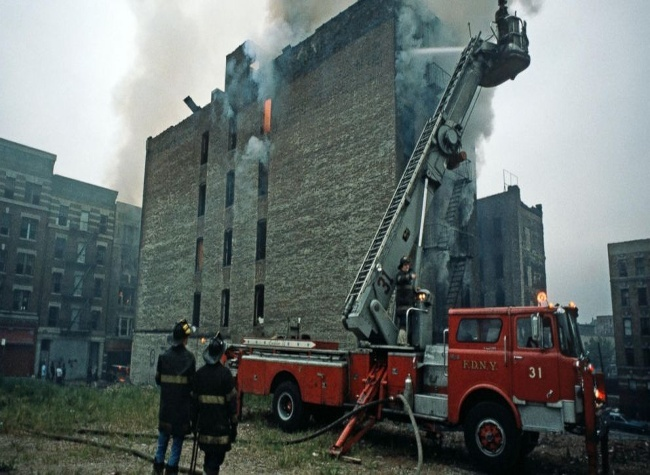Fire: (263, 100, 272, 140)
Smoke: (251, 3, 329, 86), (406, 9, 453, 99)
